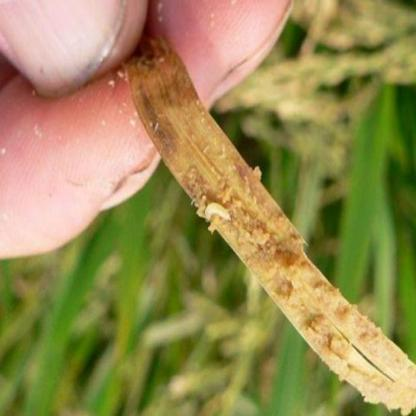whorl-maggot: (202, 197, 233, 231)
